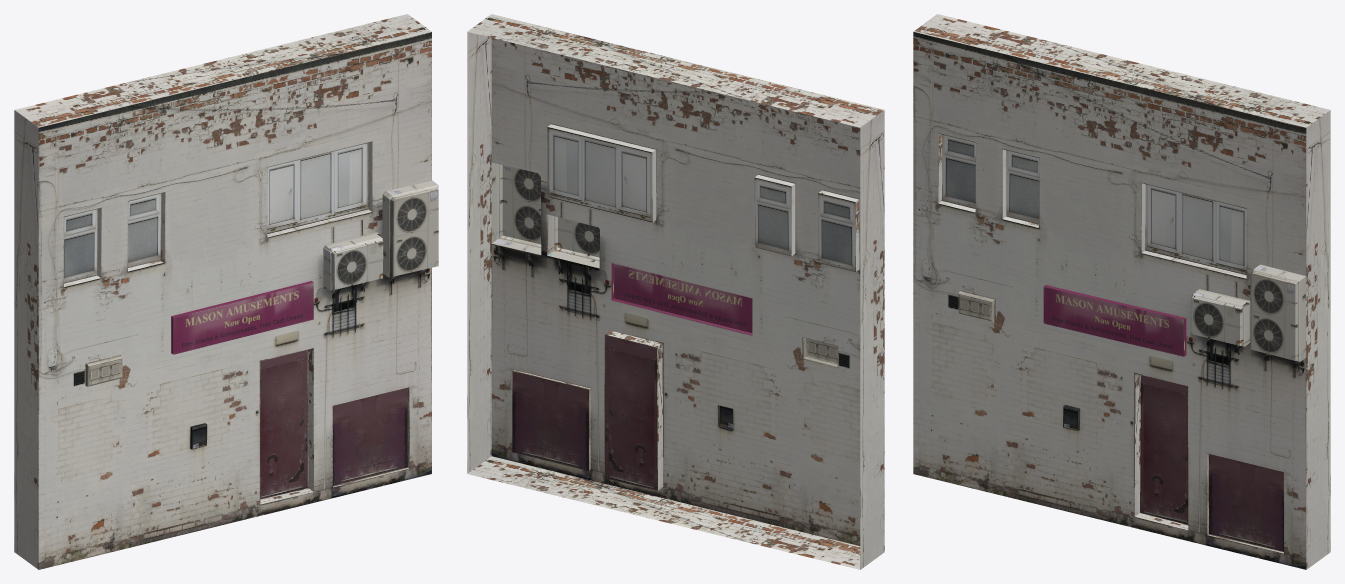
The model's file is old_apartment-office_asset_low-poly.glb.
3 renders of one model, left to right at view 1: azimuth 30°, elevation 25°; view 2: azimuth 150°, elevation 25°; view 3: azimuth 330°, elevation 25°, orthographic.
Visible parts, largest first — view 1: Old Building #5; view 2: Old Building #5; view 3: Old Building #5.
Part boxes in pixels (box(x1,y1,x2,y2)): Old Building #5: box(14, 14, 438, 569); Old Building #5: box(467, 14, 884, 569); Old Building #5: box(913, 14, 1330, 569).
Size of the model in its own units: 2 by 2.15 by 0.2917.
1 material, 1 textured.
